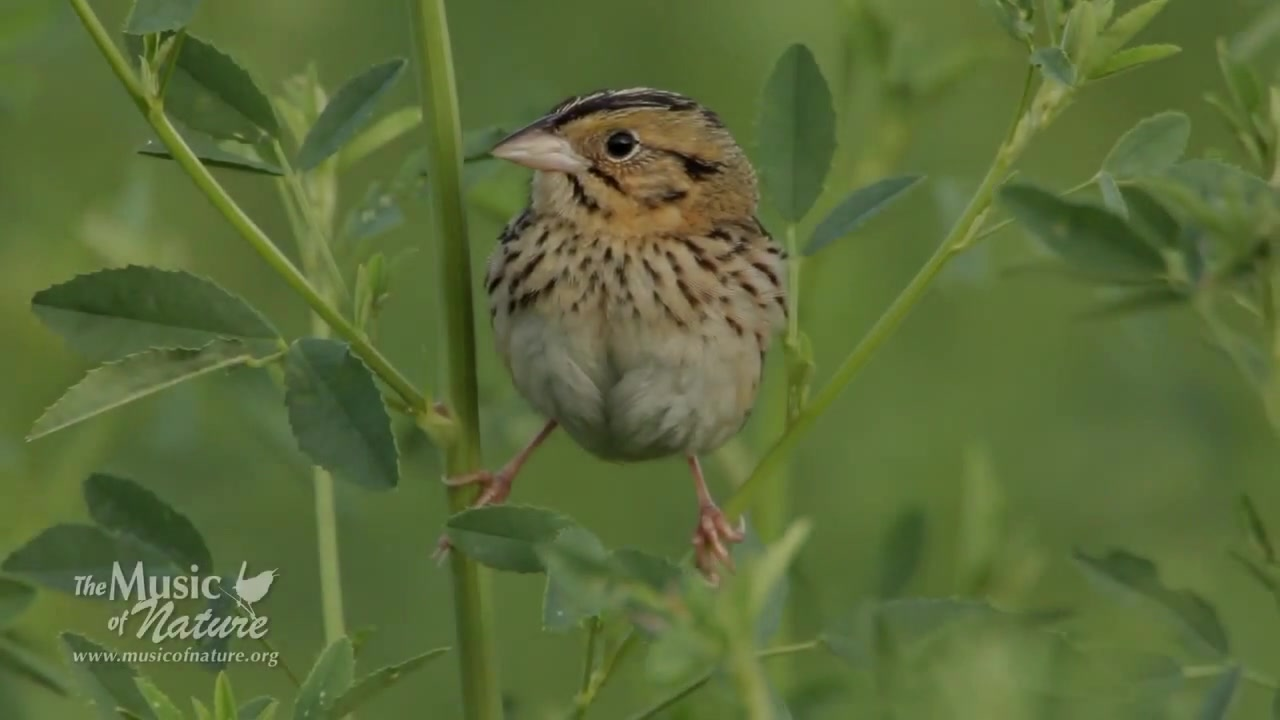bird: (428, 84, 797, 590)
